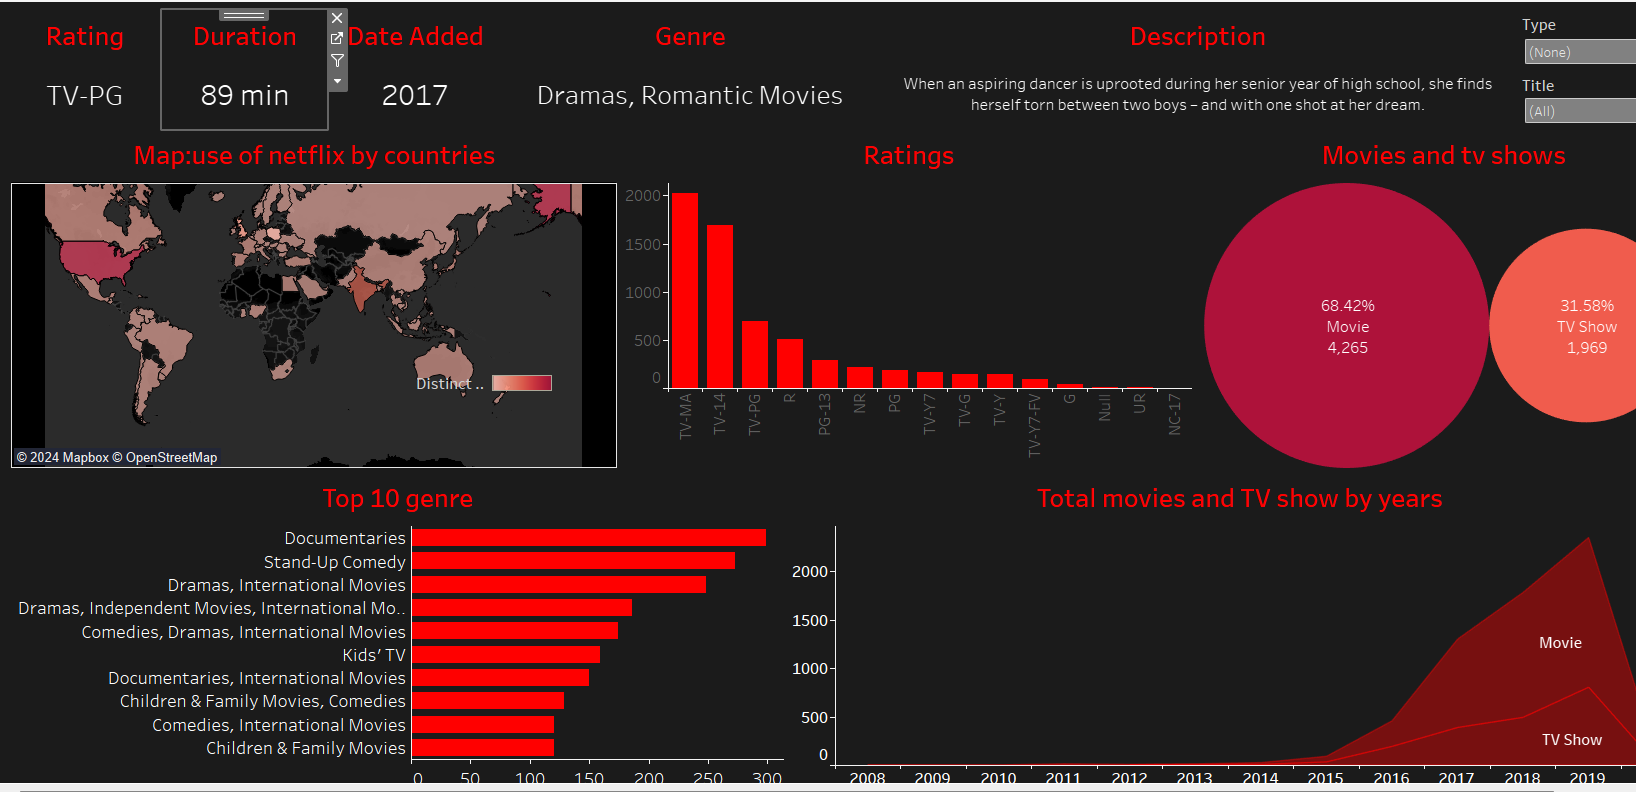

The page's visual inventory and layout, read from the dashboard file:
{"tool":"tableau","page":{"name":"Netflix","canvas":[1700,800],"ordinal":0},"visuals":[{"type":"worksheet","title":"Rating","mark":"Automatic","box":[8,8,155,119]},{"type":"worksheet","title":"Duration","mark":"Automatic","box":[163,8,165,119]},{"type":"worksheet","title":"Date Added","mark":"Automatic","box":[328,8,176,119]},{"type":"worksheet","title":"Genre","mark":"Automatic","box":[504,8,374,119]},{"type":"worksheet","title":"Description","mark":"Automatic","box":[878,8,641,119]},{"type":"filter","title":"Description","param":"[federated.18tzzez0rggprv13bp49k0glxj8p].[none:type:nk]","box":[1519,8,173,61]},{"type":"filter","title":"Description","param":"[federated.18tzzez0rggprv13bp49k0glxj8p].[none:title:nk]","box":[1519,69,173,58]},{"type":"worksheet","title":"Map:use of netflix by countries","mark":"Multipolygon","box":[8,127,613.8,343.3]},{"type":"worksheet","title":"Ratings","mark":"Automatic","rows":["show_id"],"cols":["rating"],"box":[621.8,127,575.2,343.3]},{"type":"worksheet","title":"Movies and tv shows","mark":"Circle","box":[1197,127,495,343.3]},{"type":"legend","title":"Map:use of netflix by countries","param":"[federated.18tzzez0rggprv13bp49k0glxj8p].[ctd:show_id:qk]","box":[417,369,140,23]},{"type":"worksheet","title":"Top 10 genre","mark":"Automatic","rows":["listed_in"],"cols":["show_id"],"box":[8,470.3,781,321.7]},{"type":"worksheet","title":"Total movies and tv show by year","mark":"Area","rows":["show_id"],"cols":["date_added"],"box":[789,470.3,903,321.7]}]}

Visuals, with their boxes on the page's 1700x800 design canvas (x1, y1, x2, y2). These are canvas units, not pixel positions in the 1636x792 screenshot, which may show the page scaled, cropped or inside an application window:
"Rating" worksheet: BBox(8, 8, 163, 127)
"Duration" worksheet: BBox(163, 8, 328, 127)
"Date Added" worksheet: BBox(328, 8, 504, 127)
"Genre" worksheet: BBox(504, 8, 878, 127)
"Description" worksheet: BBox(878, 8, 1519, 127)
"Description" filter: BBox(1519, 8, 1692, 69)
"Description" filter: BBox(1519, 69, 1692, 127)
"Map:use of netflix by countries" worksheet (Multipolygon marks): BBox(8, 127, 622, 470)
"Ratings" worksheet: BBox(622, 127, 1197, 470)
"Movies and tv shows" worksheet (Circle marks): BBox(1197, 127, 1692, 470)
"Map:use of netflix by countries" legend: BBox(417, 369, 557, 392)
"Top 10 genre" worksheet: BBox(8, 470, 789, 792)
"Total movies and tv show by year" worksheet (Area marks): BBox(789, 470, 1692, 792)
